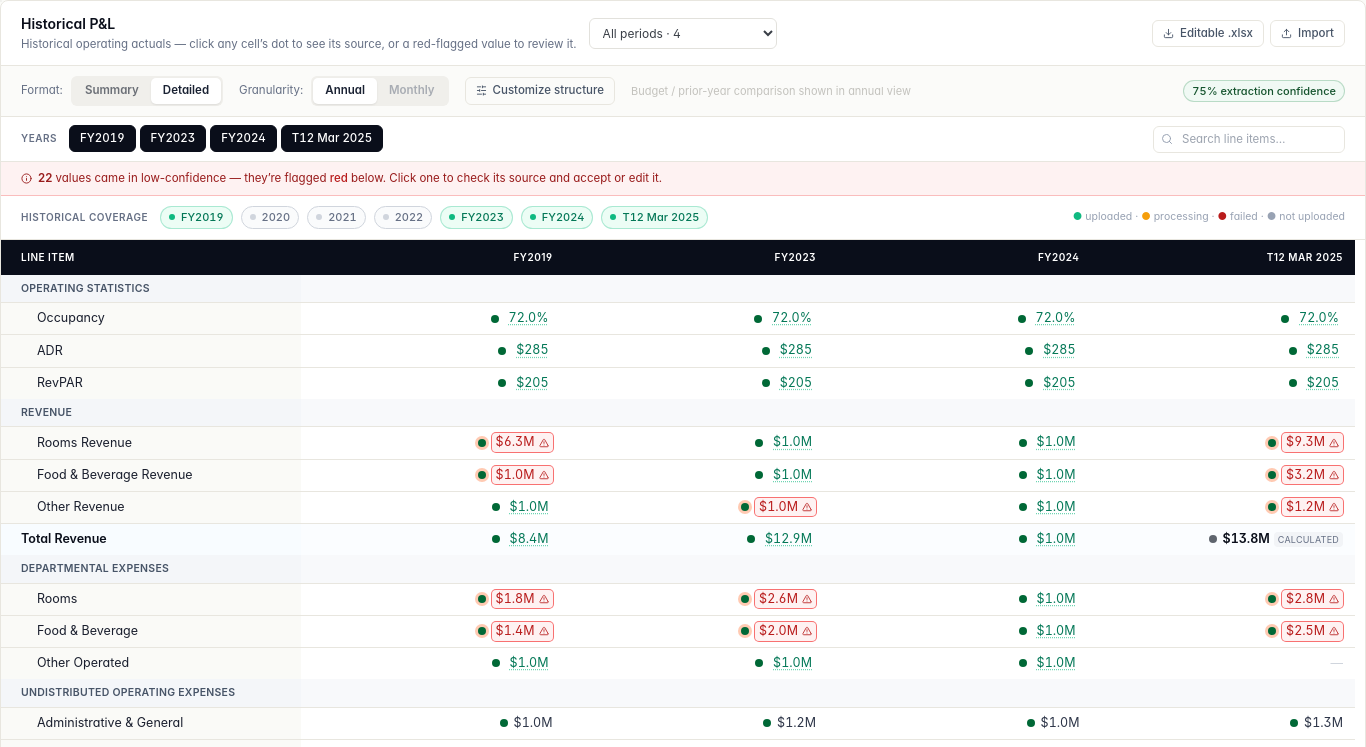
Test: Worksheet layout — a failed write is never mistaken for a saved one › surfaces "Layout not saved" with a Retry, and an error toast
Click the button "Customize structure".
click(540, 91)  # box top-left (465, 77), bottom-right (615, 105)
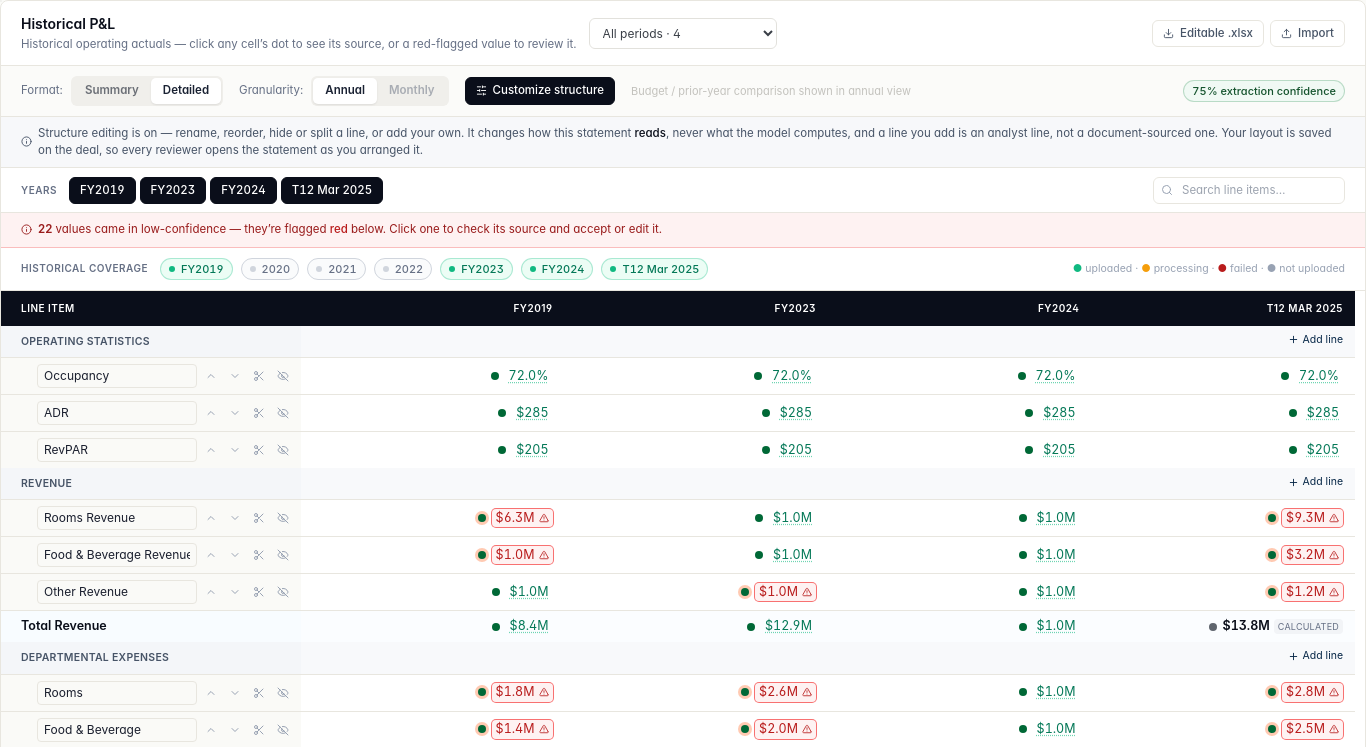
Click the 1st button named "Move down".
click(235, 376)  # box top-left (225, 366), bottom-right (245, 386)
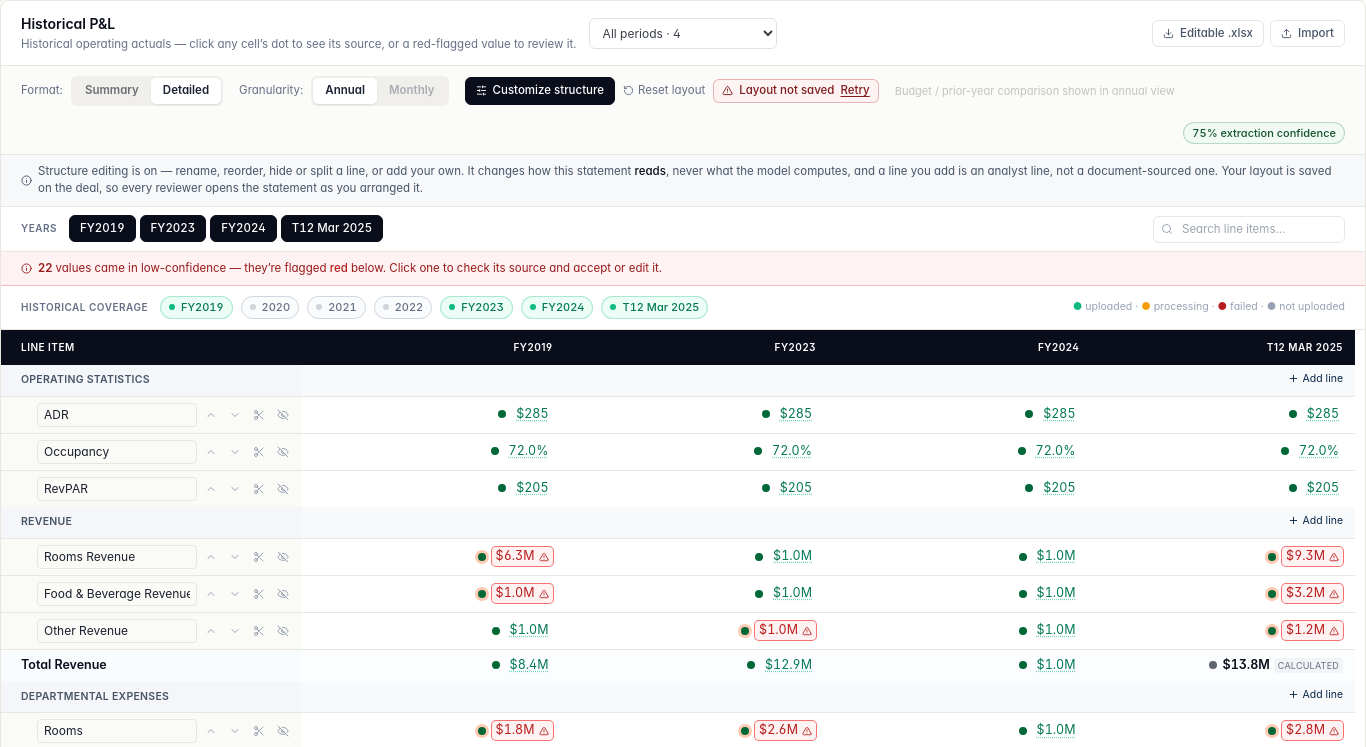
Now the text "Layout not saved Retry" is shown, box top-left (713, 79), bottom-right (879, 103)
Now the button "Retry" is shown
Click the button "Retry".
click(855, 91)  # box top-left (840, 82), bottom-right (870, 100)
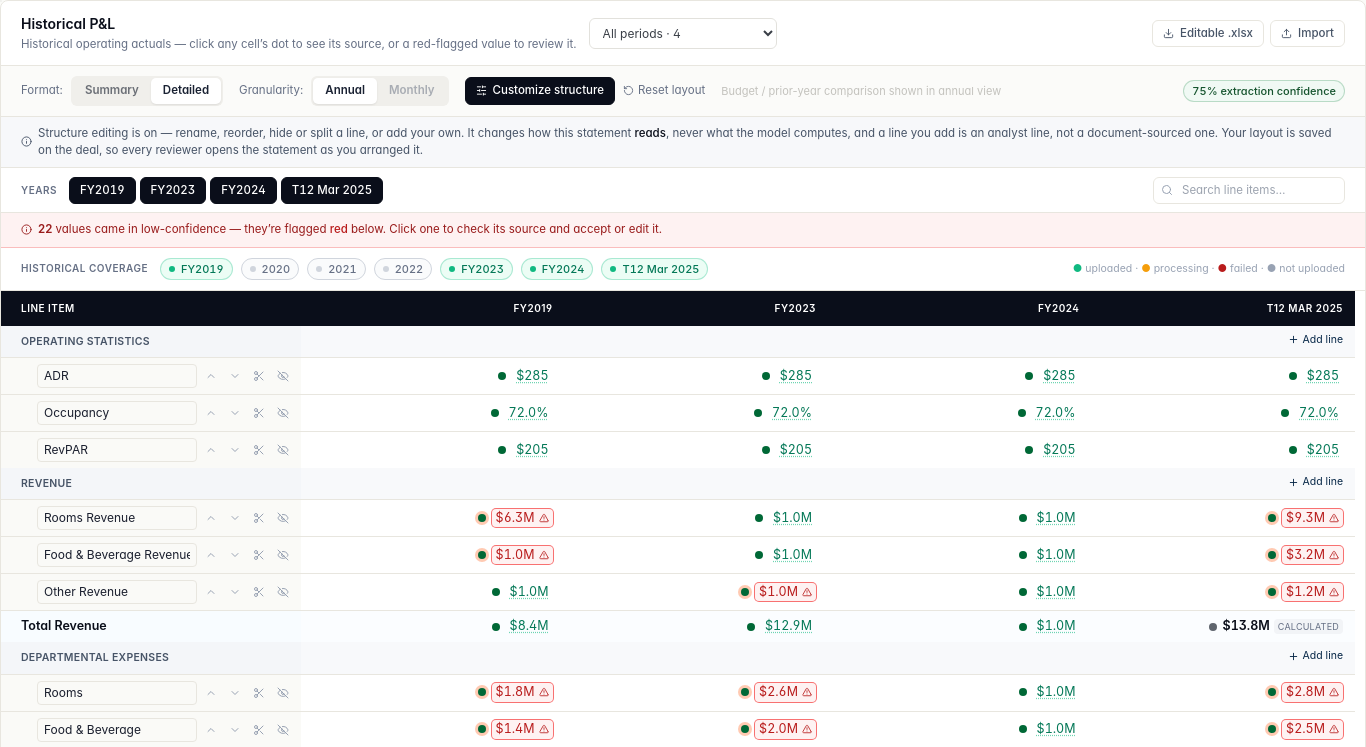
Now the text "Layout not saved" is gone
